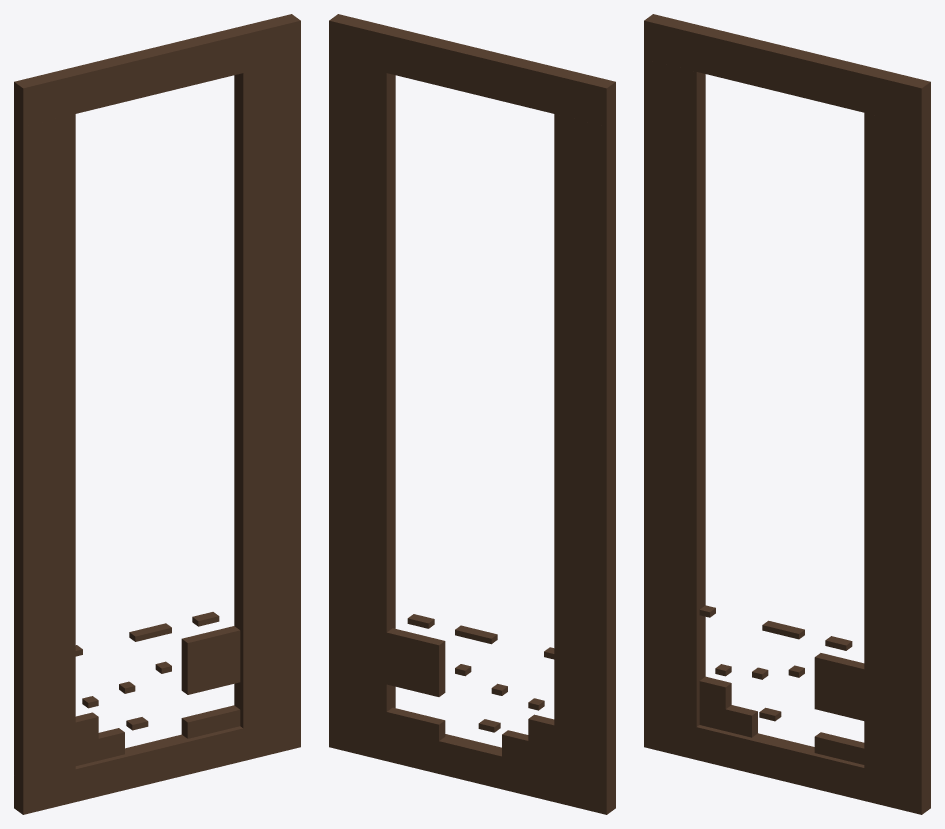
The model's file is LVL.fbx.
3 renders of one model, left to right at view 1: azimuth 30°, elevation 25°; view 2: azimuth 150°, elevation 25°; view 3: azimuth 330°, elevation 25°, orthographic.
Parts seen in each view (by area): view 1: Ground__1_, Ground__3_, Ground__2_, Ground, Block__5_, Block__1_, Block, Block__3_; view 2: Ground__1_, Ground__3_, Ground__2_, Ground, Block__5_, Block, Block__1_, Block__3_; view 3: Ground__1_, Ground__3_, Ground__2_, Ground, Block__5_, Block, Block__1_, Block__3_.
Boxes of the visible parts, x1,y1,x2,y2 form: Ground__1_: [234, 59, 300, 730]; Ground__3_: [14, 114, 75, 781]; Ground__2_: [14, 14, 300, 126]; Ground: [14, 714, 300, 814]; Block__5_: [181, 626, 240, 694]; Block__1_: [181, 705, 240, 738]; Block: [75, 728, 124, 765]; Block__3_: [75, 712, 98, 744]; Ground__1_: [329, 59, 395, 730]; Ground__3_: [554, 114, 615, 781]; Ground__2_: [329, 14, 615, 126]; Ground: [329, 714, 615, 814]; Block__5_: [386, 628, 445, 696]; Block: [502, 730, 554, 768]; Block__1_: [386, 707, 445, 740]; Block__3_: [528, 714, 554, 746]; Ground__1_: [864, 113, 930, 784]; Ground__3_: [644, 59, 705, 729]; Ground__2_: [644, 14, 930, 126]; Ground: [644, 715, 930, 814]; Block__5_: [814, 653, 864, 720]; Block: [699, 703, 757, 737]; Block__1_: [814, 732, 864, 764]; Block__3_: [699, 676, 731, 709].
Bounding box in the file's own units: 5300 × 13250 × 300.
